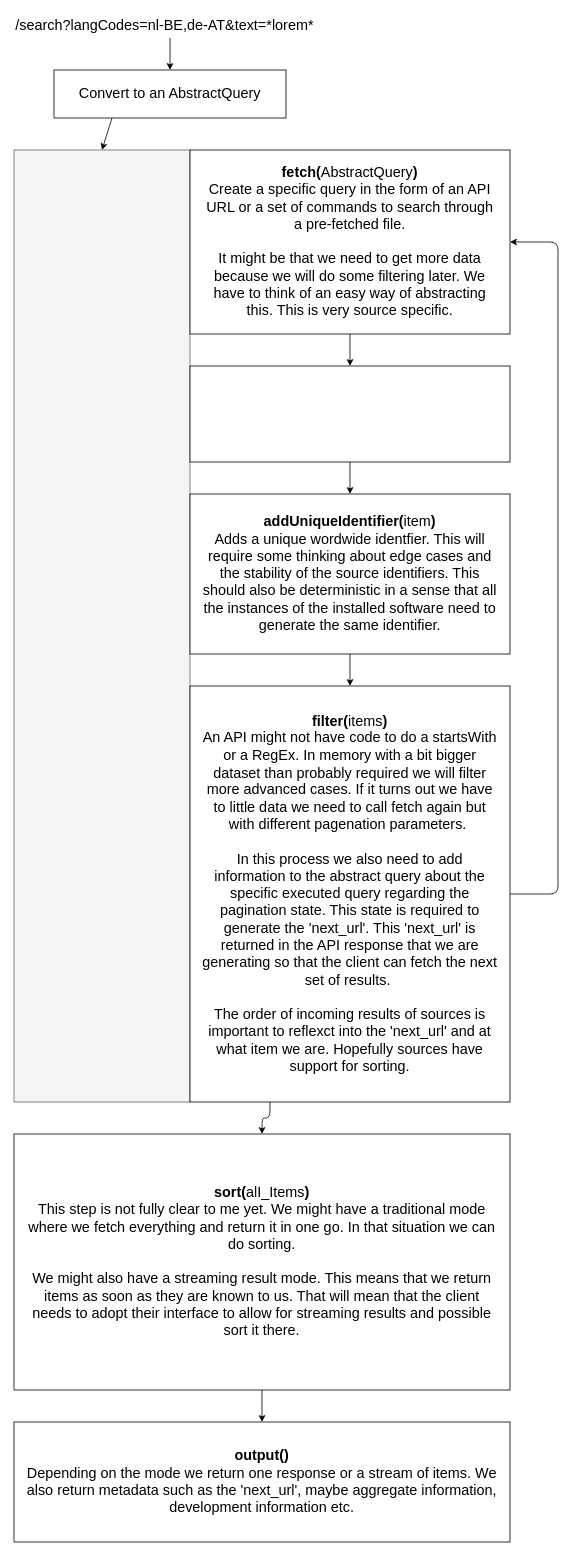
Some shapes in this 578 by 1556 pixel diagram are drawn without their labels. Each missing label, with the centre of its shape:
"For each DataSource" belongs at point 101,625.
"normalize( item ) Normalize every item to https://schema.org ontology." belongs at point 349,413.
